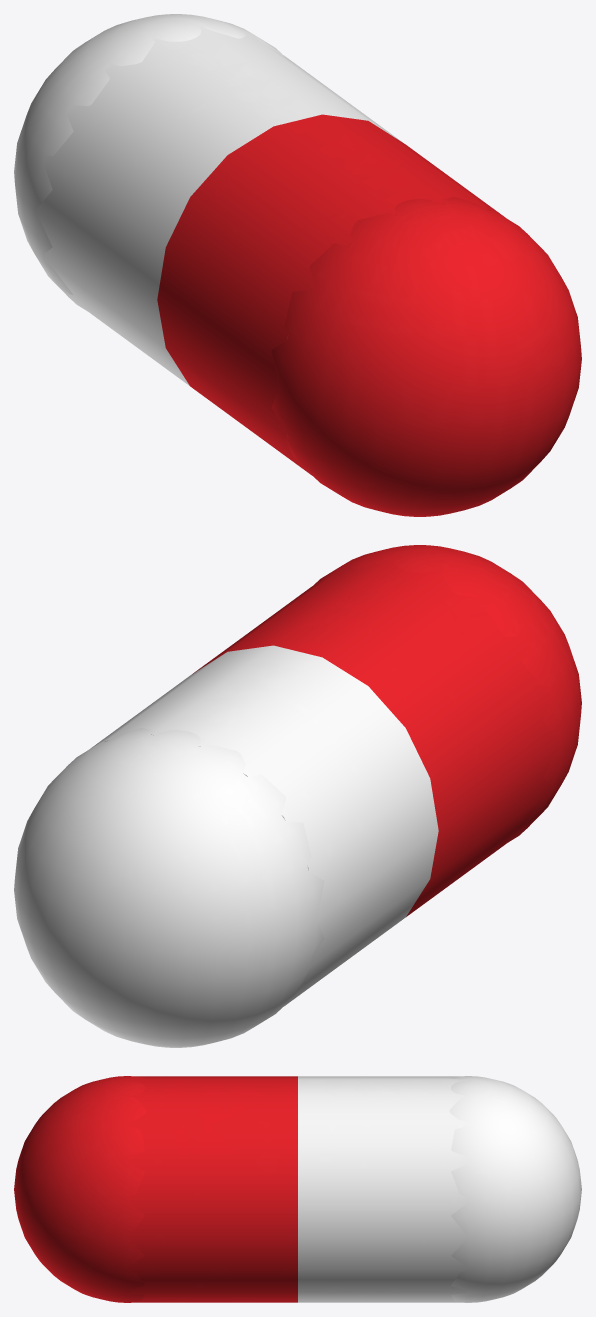
File: Pill.FBX
The picture shows the model from 3 angles, top to bottom: view 1: azimuth 30°, elevation 25°; view 2: azimuth 150°, elevation 25°; view 3: azimuth 270°, elevation 25°; orthographic projection. The views are drawn at different scales.
Visible parts, largest first — view 1: Sphere002; view 2: Sphere002; view 3: Sphere002.
Boxes of the visible parts, x1,y1,x2,y2 form: Sphere002: [14, 14, 581, 516]; Sphere002: [14, 545, 581, 1047]; Sphere002: [14, 1076, 581, 1302].
Bounding box in the file's own units: 20 × 20 × 50.
